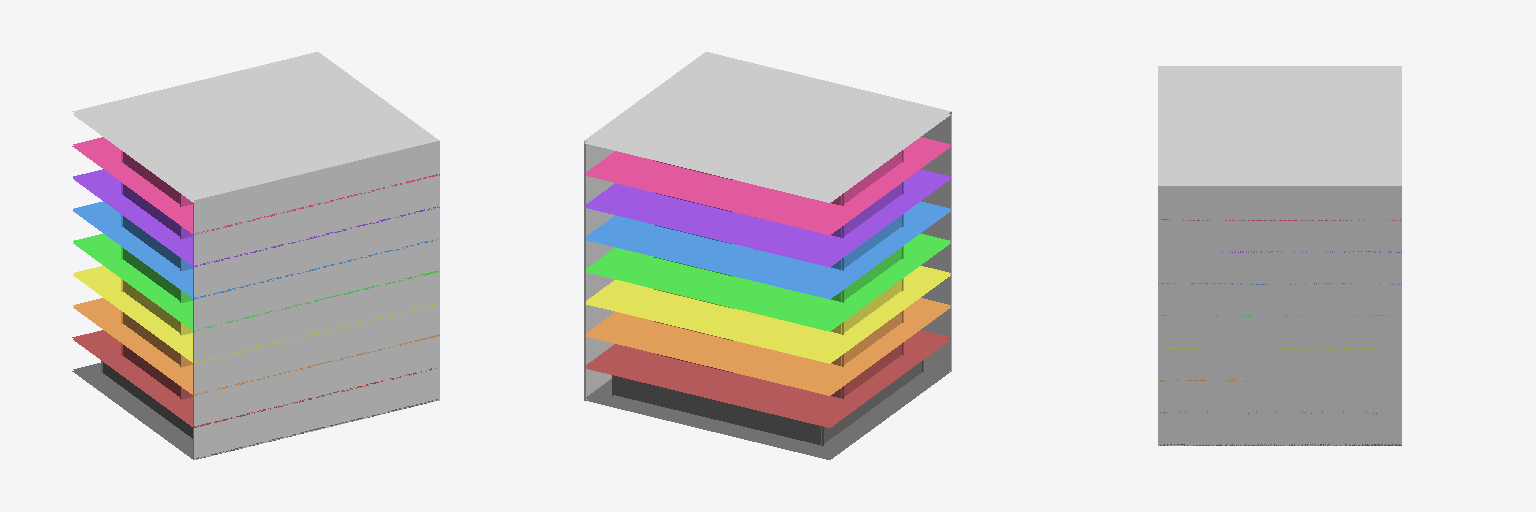
File: 赤土崎多功能館_彩色對角切面.obj
3 views of the same model, side by side, from view 1: azimuth 30°, elevation 25°; view 2: azimuth 150°, elevation 25°; view 3: azimuth 270°, elevation 25° (orthographic).
Bounding box in the file's own units: 2.8 × 2.83 × 2.4.